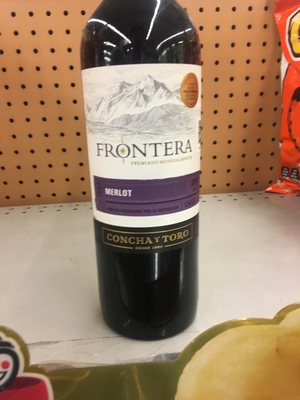frontera merlot: (74, 9, 224, 359)
